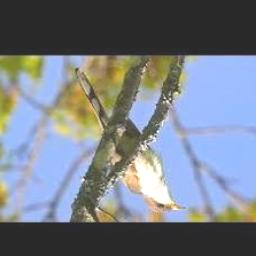Cuckoo: (76, 68, 187, 213)
